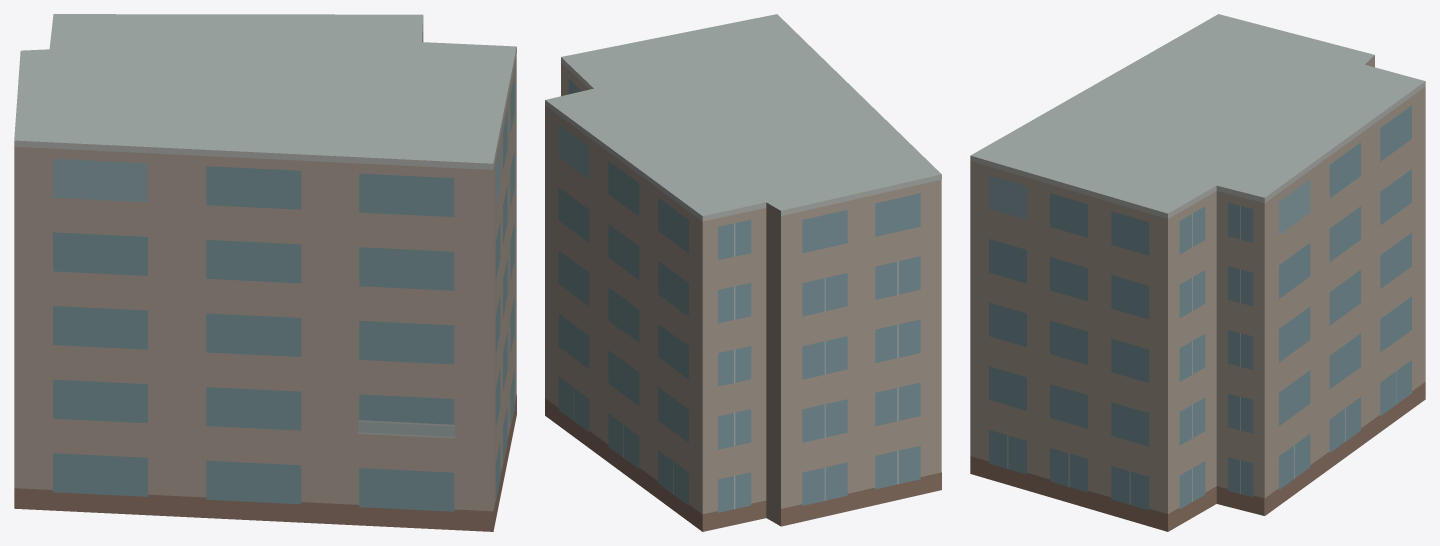
File: survey-upis-32746916.glb
3 views of the same model, side by side, from view 1: azimuth 30°, elevation 25°; view 2: azimuth 150°, elevation 25°; view 3: azimuth 270°, elevation 25° (orthographic). The views are drawn at different scales.
Visible parts, largest first — view 1: survey-upis-32746916.tmp; view 2: survey-upis-32746916.tmp; view 3: survey-upis-32746916.tmp.
Part boxes in pixels (box(x1,y1,x2,y2)): survey-upis-32746916.tmp: box(14, 14, 516, 531); survey-upis-32746916.tmp: box(545, 14, 941, 531); survey-upis-32746916.tmp: box(970, 14, 1425, 531).
Size of the model in its own units: 19.4 by 14.41 by 18.69.
